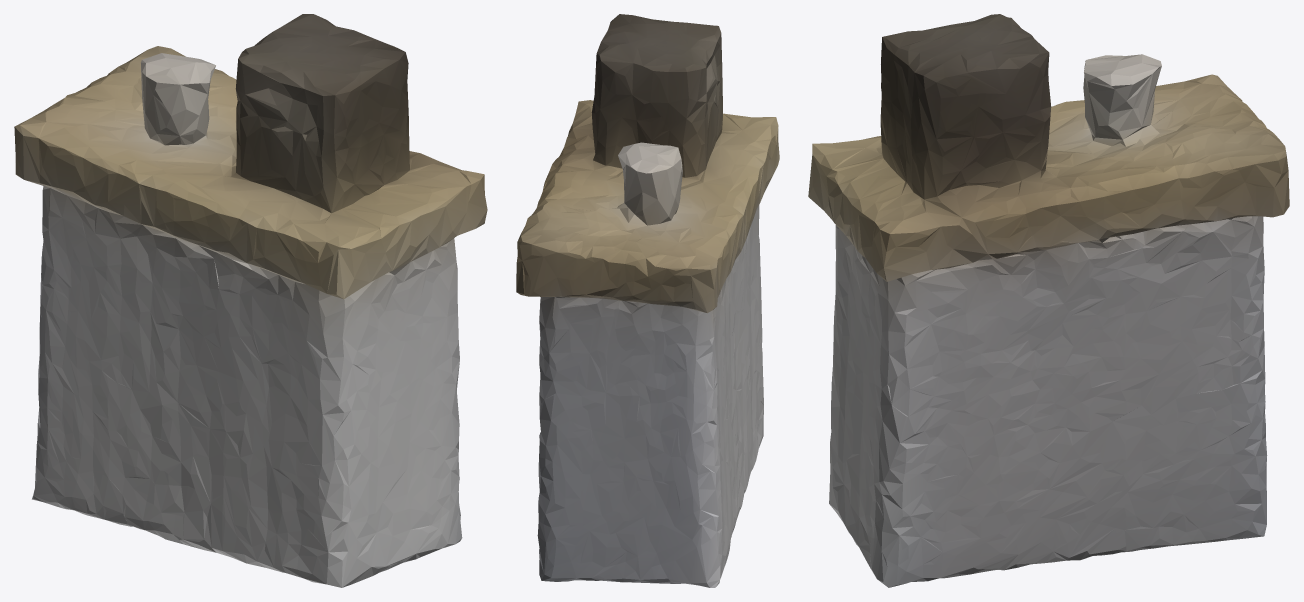
The model's file is cafe-2.glb.
3 views of the same model, side by side, from view 1: azimuth 30°, elevation 25°; view 2: azimuth 150°, elevation 25°; view 3: azimuth 270°, elevation 25° (orthographic). The views are drawn at different scales.
Parts seen in each view (by area): view 1: geometry_0; view 2: geometry_0; view 3: geometry_0.
Part boxes in pixels (x1,y1,x2,y2): geometry_0: [14, 14, 487, 587]; geometry_0: [516, 14, 779, 587]; geometry_0: [808, 14, 1289, 587].
Size of the model in its own units: 0.6219 by 0.9564 by 0.8216.
